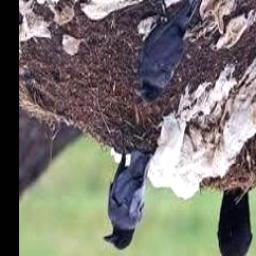Crow: (134, 0, 200, 104), (102, 150, 152, 251), (213, 189, 252, 256)
